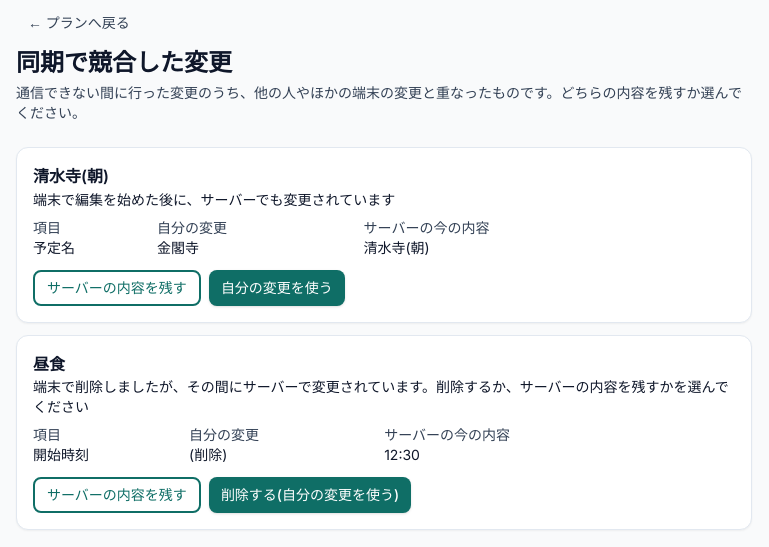
Test case: SyncConflictsPage (Gate P11) › 削除の競合は「削除する」か「サーバーの内容を残す」。残すはrevisionを送らない
Expected: the button "削除する(自分の変更を使う)" is shown, [209, 477, 411, 513]
Click the button "サーバーの内容を残す" below "開始時刻" at (117, 495), box [33, 477, 201, 513]
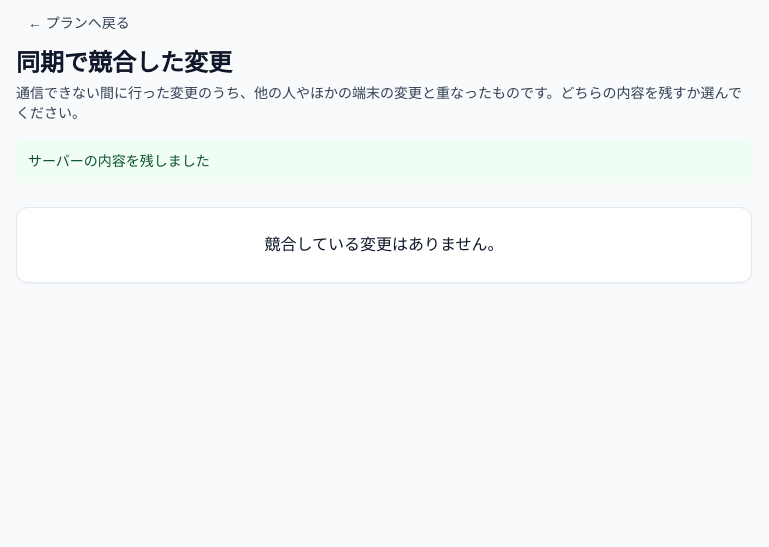
Expected: the text "競合している変更はありません。" is shown, [16, 207, 752, 283]
